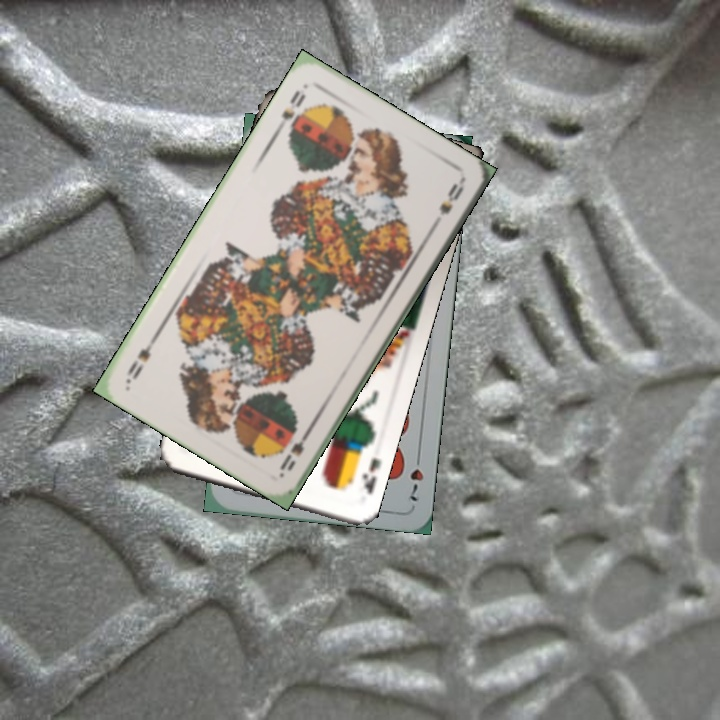EK: (357, 454, 384, 498)
H7: (403, 447, 426, 504)
SO: (276, 423, 315, 477), (272, 86, 309, 134)
